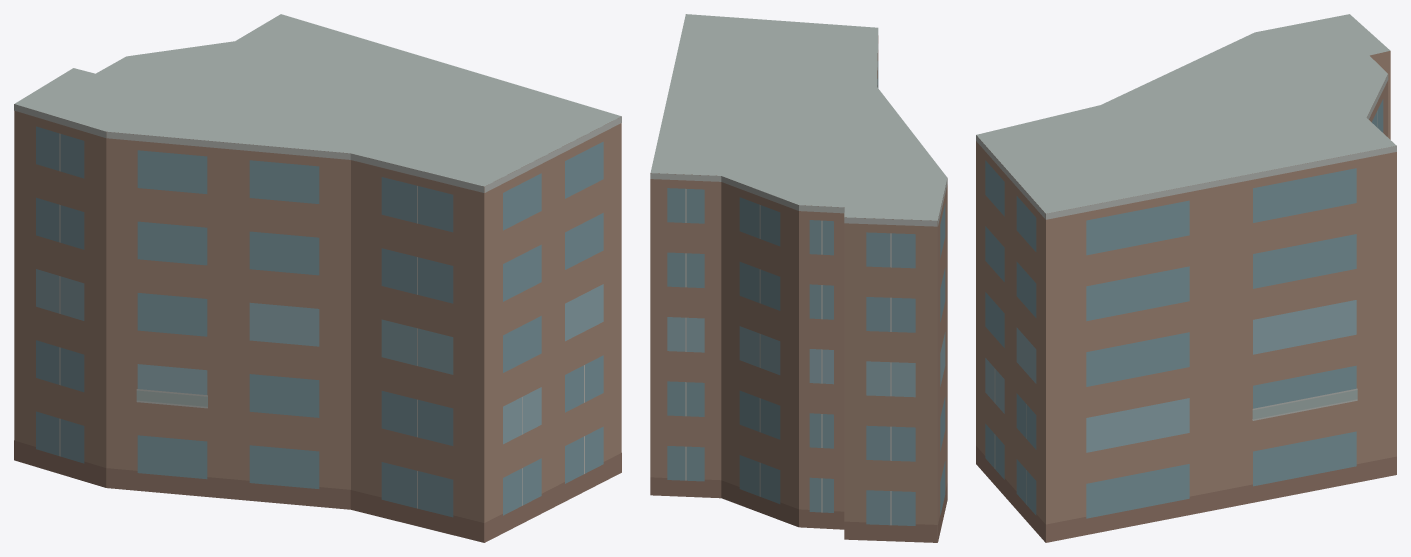
Rendered from survey-upis-32920238.glb.
The picture shows the model from 3 angles, left to right: view 1: azimuth 30°, elevation 25°; view 2: azimuth 150°, elevation 25°; view 3: azimuth 270°, elevation 25°; orthographic projection. The views are drawn at different scales.
Visible parts, largest first — view 1: survey-upis-32920238.tmp; view 2: survey-upis-32920238.tmp; view 3: survey-upis-32920238.tmp.
Boxes of the visible parts, left/top/right/bottom form: survey-upis-32920238.tmp: left=14, top=14, right=621, bottom=542; survey-upis-32920238.tmp: left=650, top=14, right=947, bottom=542; survey-upis-32920238.tmp: left=976, top=14, right=1396, bottom=542.
Bounding box in the file's own units: 17.19 × 13.2 × 15.3.
